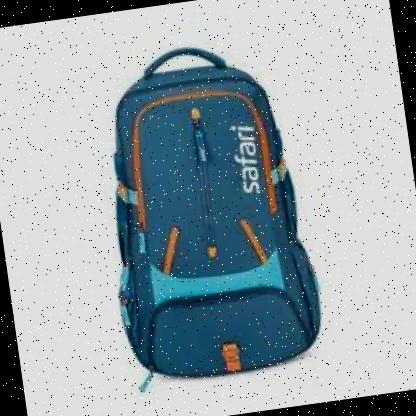bag: (73, 27, 339, 397)
